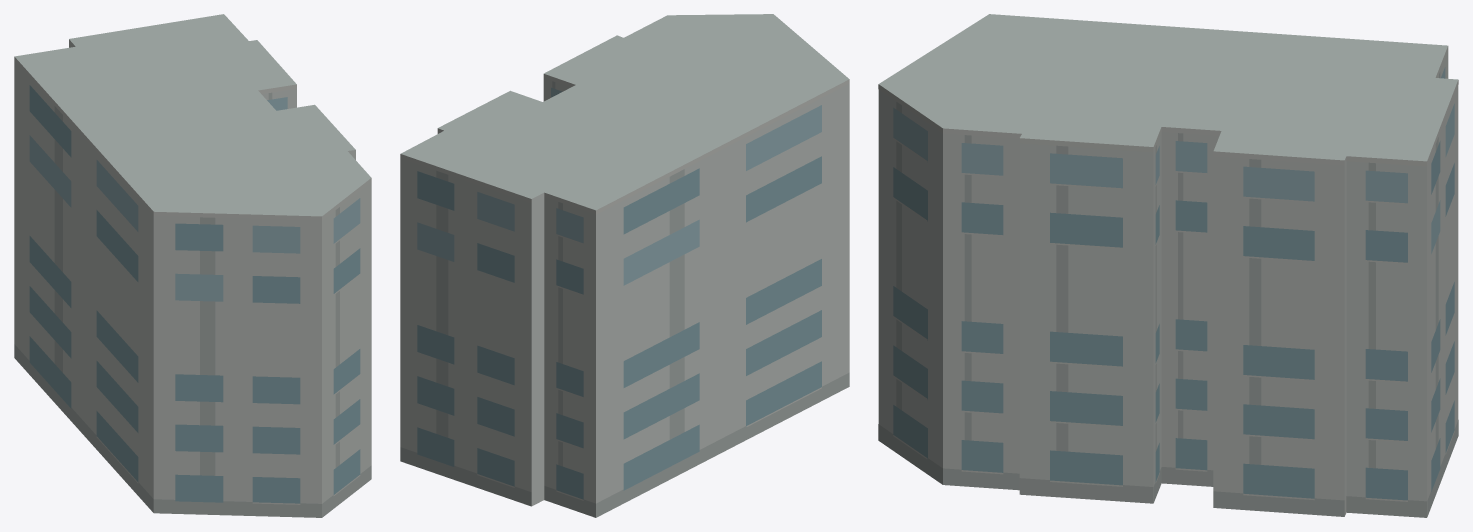
Rendered from survey-upis-33001548.glb.
3 renders of one model, left to right at view 1: azimuth 30°, elevation 25°; view 2: azimuth 150°, elevation 25°; view 3: azimuth 270°, elevation 25°, orthographic. The views are drawn at different scales.
Visible parts, largest first — view 1: survey-upis-33001548.tmp; view 2: survey-upis-33001548.tmp; view 3: survey-upis-33001548.tmp.
Part boxes in pixels (x1,y1,x2,y2): survey-upis-33001548.tmp: (14, 14, 371, 517); survey-upis-33001548.tmp: (400, 14, 849, 517); survey-upis-33001548.tmp: (878, 14, 1458, 517).
Size of the model in its own units: 14.99 by 16.9 by 24.92.
